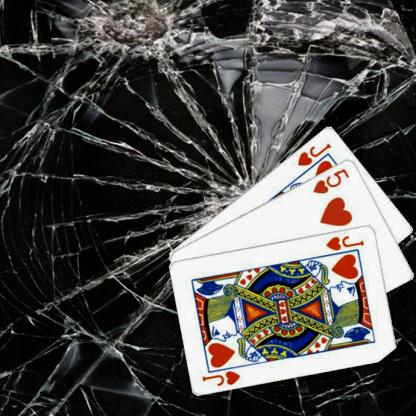5H: (310, 165, 351, 195)
JH: (295, 140, 332, 167), (199, 368, 242, 387), (324, 233, 365, 251)
